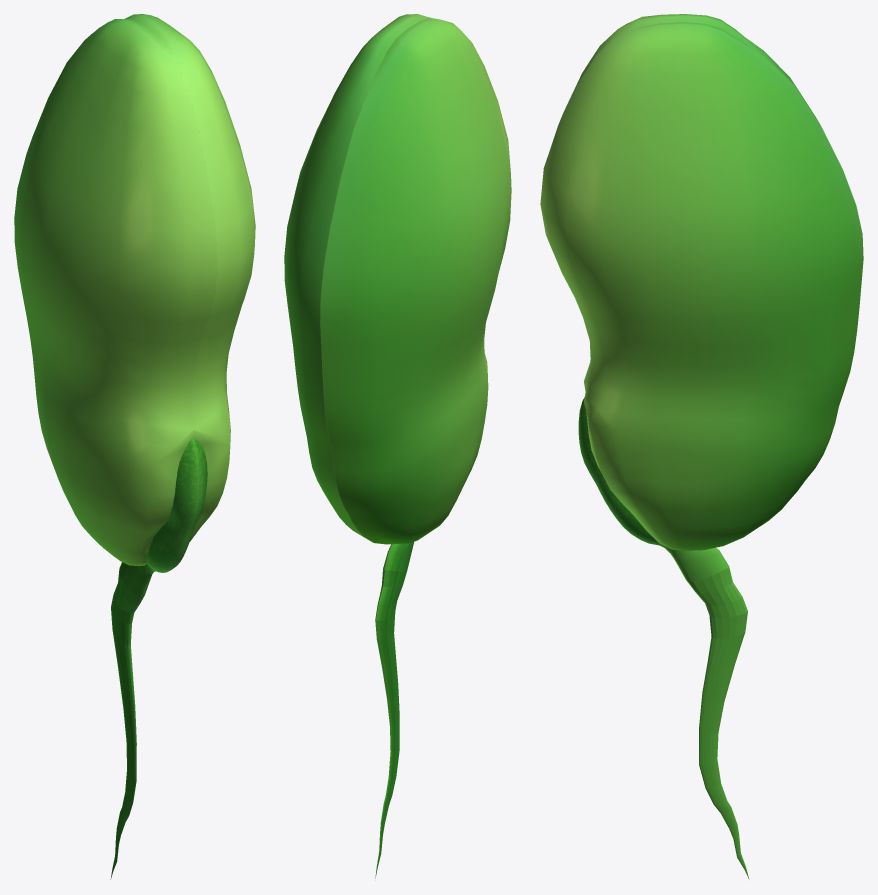
The model's file is sw_zwqg_ld2.FBX.
3 views of the same model, side by side, from view 1: azimuth 30°, elevation 25°; view 2: azimuth 150°, elevation 25°; view 3: azimuth 270°, elevation 25° (orthographic). The views are drawn at different scales.
Parts seen in each view (by area): view 1: sw_zwqg_lddou3, sw_zwqg_lddou4, sw_zwqg_ldjin3; view 2: sw_zwqg_lddou3, sw_zwqg_lddou4, sw_zwqg_ldjin3; view 3: sw_zwqg_lddou4, sw_zwqg_ldjin3, sw_zwqg_lddou3.
Part boxes in pixels (box(x1,y1,x2,y2)): sw_zwqg_lddou3: box(14, 19, 217, 566); sw_zwqg_lddou4: box(125, 14, 255, 541); sw_zwqg_ldjin3: box(110, 438, 207, 879); sw_zwqg_lddou3: box(320, 17, 511, 544); sw_zwqg_lddou4: box(284, 14, 429, 539); sw_zwqg_ldjin3: box(375, 542, 413, 878); sw_zwqg_lddou4: box(540, 22, 863, 550); sw_zwqg_ldjin3: box(578, 397, 749, 879); sw_zwqg_lddou3: box(560, 14, 819, 391).
Size of the model in its own units: 1.43 by 6.58 by 2.24.
Materials: 2 (2 with a texture image).
